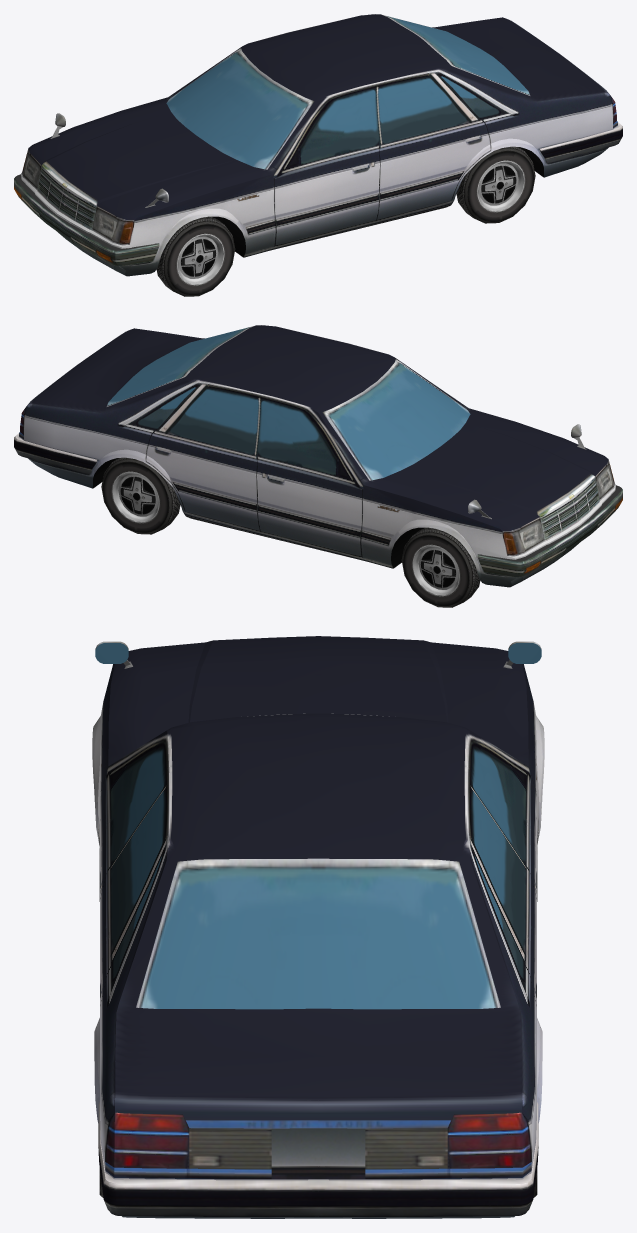
Rendered from nissan_laurel.glb.
The picture shows the model from 3 angles, top to bottom: view 1: azimuth 30°, elevation 25°; view 2: azimuth 150°, elevation 25°; view 3: azimuth 270°, elevation 25°; orthographic projection. The views are drawn at different scales.
Parts seen in each view (by area): view 1: Object_4, Object_2, Object_3; view 2: Object_4, Object_2, Object_3; view 3: Object_4, Object_2.
Boxes of the visible parts, <box> form: Object_4: <box>14,14,622,276</box>; Object_2: <box>50,113,543,296</box>; Object_3: <box>21,172,130,247</box>; Object_4: <box>14,325,622,587</box>; Object_2: <box>93,424,586,607</box>; Object_3: <box>506,483,615,558</box>; Object_4: <box>92,636,544,1218</box>; Object_2: <box>95,641,541,1197</box>.
Bounding box in the file's own units: 7.41 × 2.17 × 2.79.
Materials: 2 (2 with a texture image).
